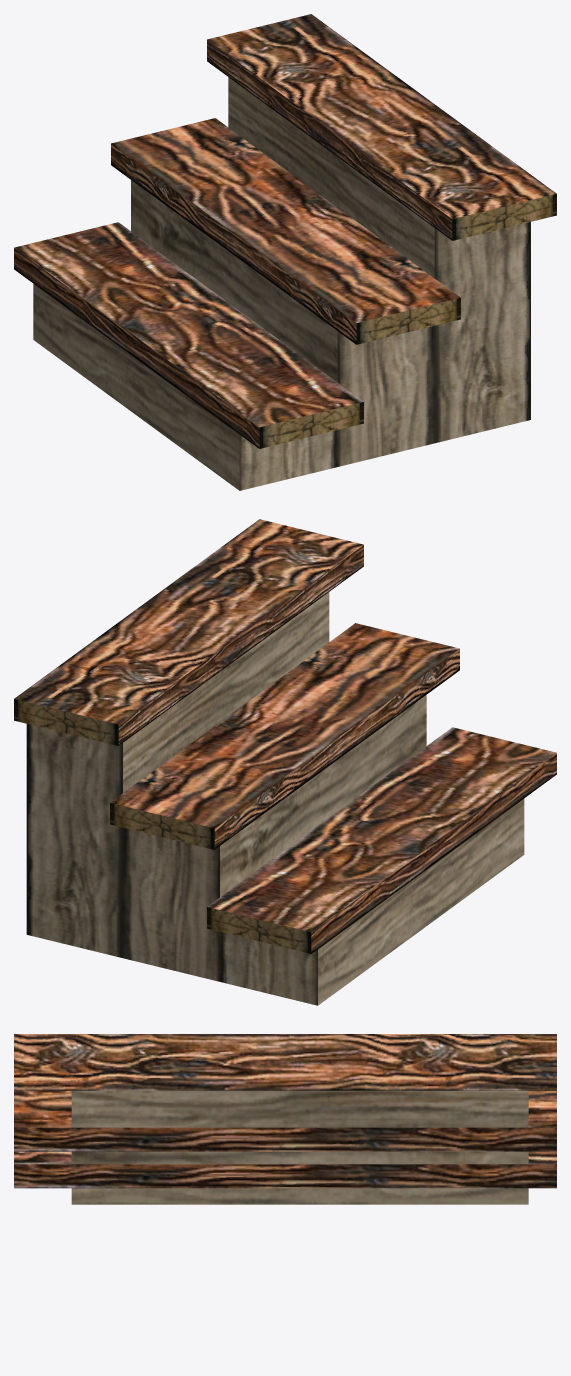
The model's file is LAKETOWN_PUB_PS_PUB_STAIRS736.fbx.
3 views of the same model, one above another, from view 1: azimuth 30°, elevation 25°; view 2: azimuth 150°, elevation 25°; view 3: azimuth 270°, elevation 25° (orthographic). The views are drawn at different scales.
Visible parts, largest first — view 1: LAKETOWN_PUB_PS_PUB_STAIRS736; view 2: LAKETOWN_PUB_PS_PUB_STAIRS736; view 3: LAKETOWN_PUB_PS_PUB_STAIRS736.
Boxes of the visible parts, bbox=[...] form: LAKETOWN_PUB_PS_PUB_STAIRS736: bbox=[14, 14, 556, 490]; LAKETOWN_PUB_PS_PUB_STAIRS736: bbox=[14, 519, 556, 1005]; LAKETOWN_PUB_PS_PUB_STAIRS736: bbox=[14, 1034, 556, 1204].
Size of the model in its own units: 10263 by 8080 by 14662.
Materials: 3 (3 with a texture image).
